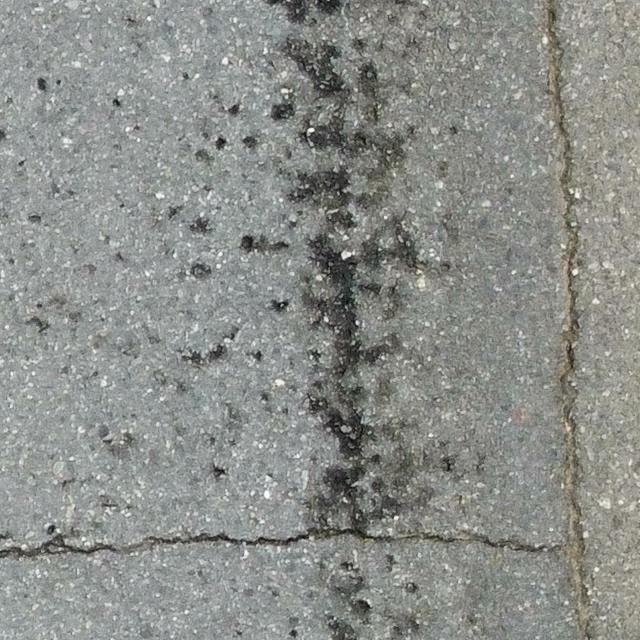LongitudinalCrack: (541, 1, 593, 638)
TransverseCrack: (1, 528, 565, 562)
